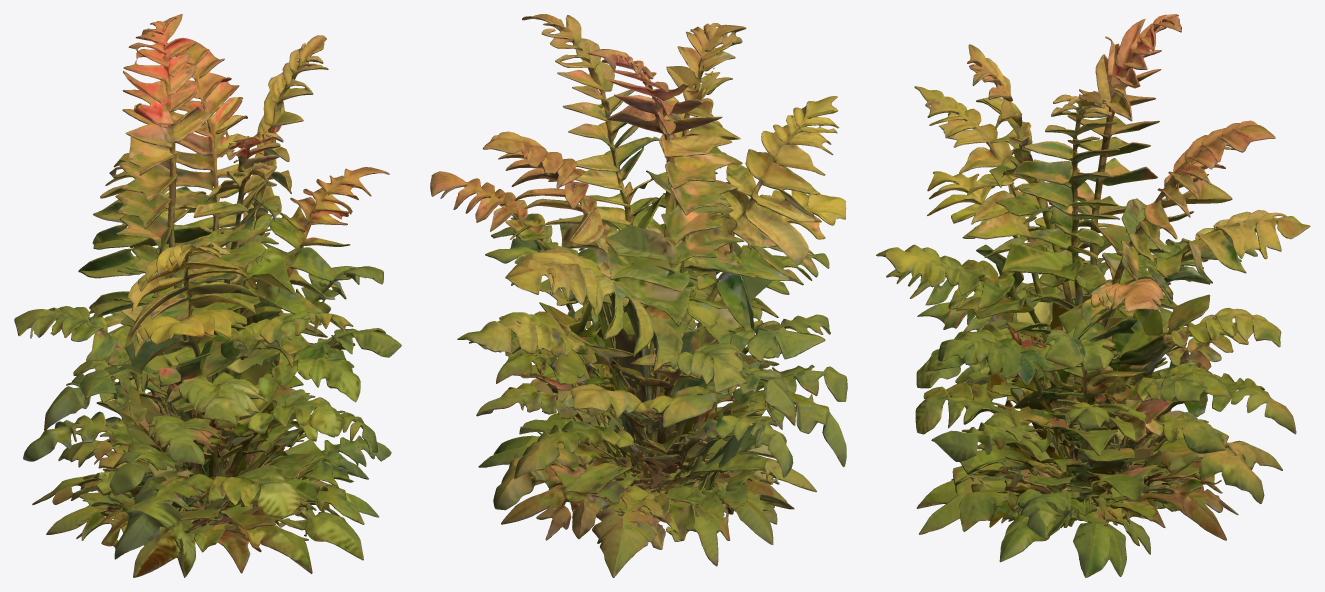
The model's file is Fern_02.fbx.
The picture shows the model from 3 angles, left to right: view 1: azimuth 30°, elevation 25°; view 2: azimuth 150°, elevation 25°; view 3: azimuth 270°, elevation 25°; orthographic projection. The views are drawn at different scales.
Visible parts, largest first — view 1: geometry_0; view 2: geometry_0; view 3: geometry_0.
Boxes of the visible parts, x1,y1,x2,y2 form: geometry_0: (14, 14, 401, 577); geometry_0: (430, 14, 847, 577); geometry_0: (876, 14, 1310, 577).
Size of the model in its own units: 56.14 by 70 by 57.43.
